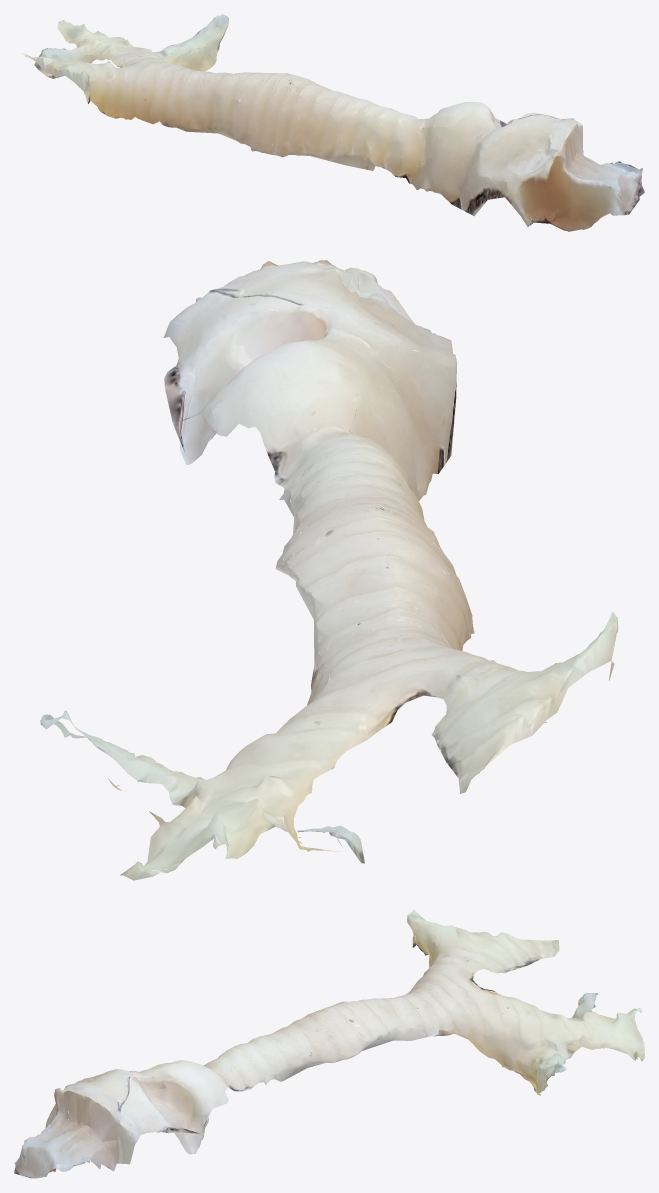
Rendered from organe.glb.
The picture shows the model from 3 angles, top to bottom: view 1: azimuth 30°, elevation 25°; view 2: azimuth 150°, elevation 25°; view 3: azimuth 270°, elevation 25°; orthographic projection. The views are drawn at different scales.
Visible parts, largest first — view 1: Object_4; view 2: Object_4; view 3: Object_4.
Boxes of the visible parts, x1,y1,x2,y2 form: Object_4: (22, 14, 644, 231); Object_4: (40, 260, 618, 880); Object_4: (14, 909, 644, 1178).
Bounding box in the file's own units: 0.6332 × 0.1691 × 0.8822.
1 material, 1 textured.
